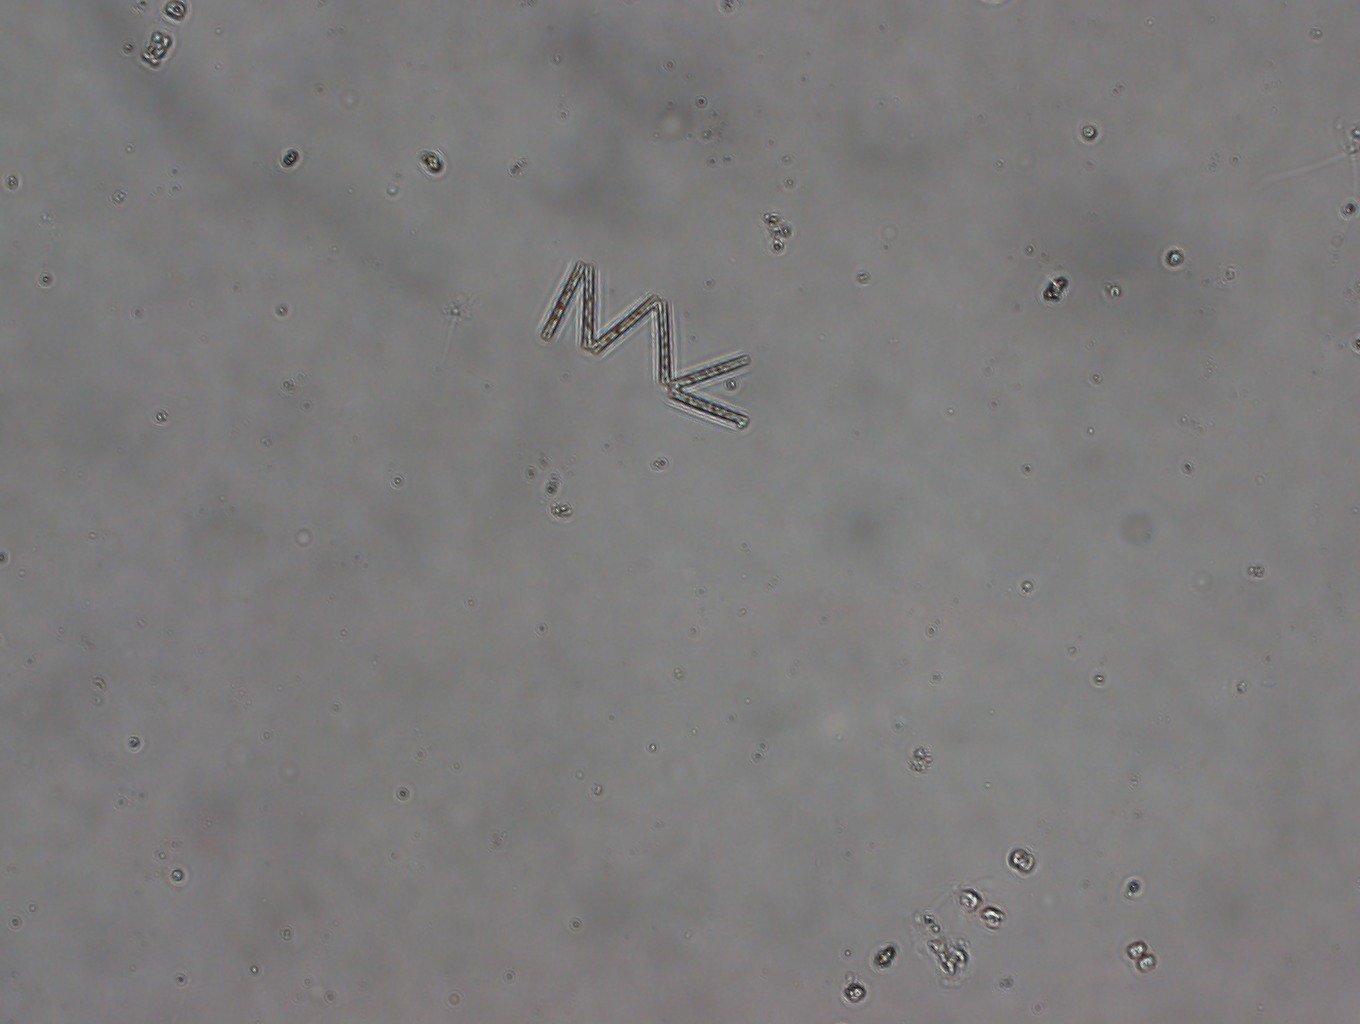thalassionema nitzschioides: (536, 260, 750, 431)
